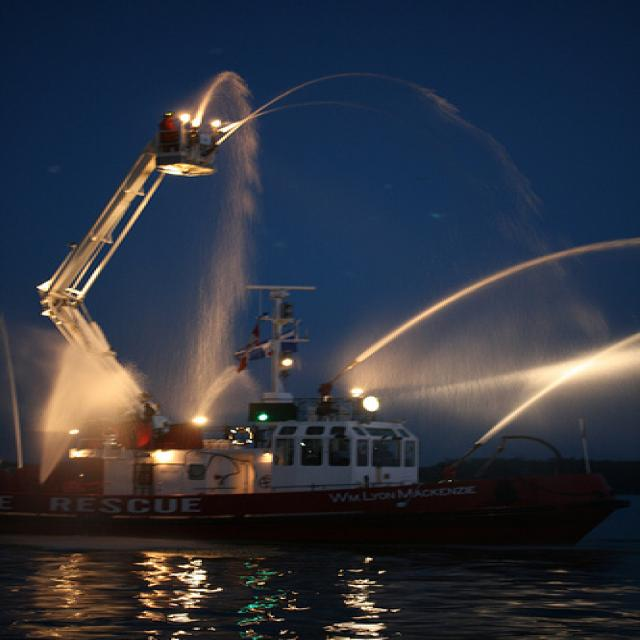Boat: (8, 145, 503, 544)
